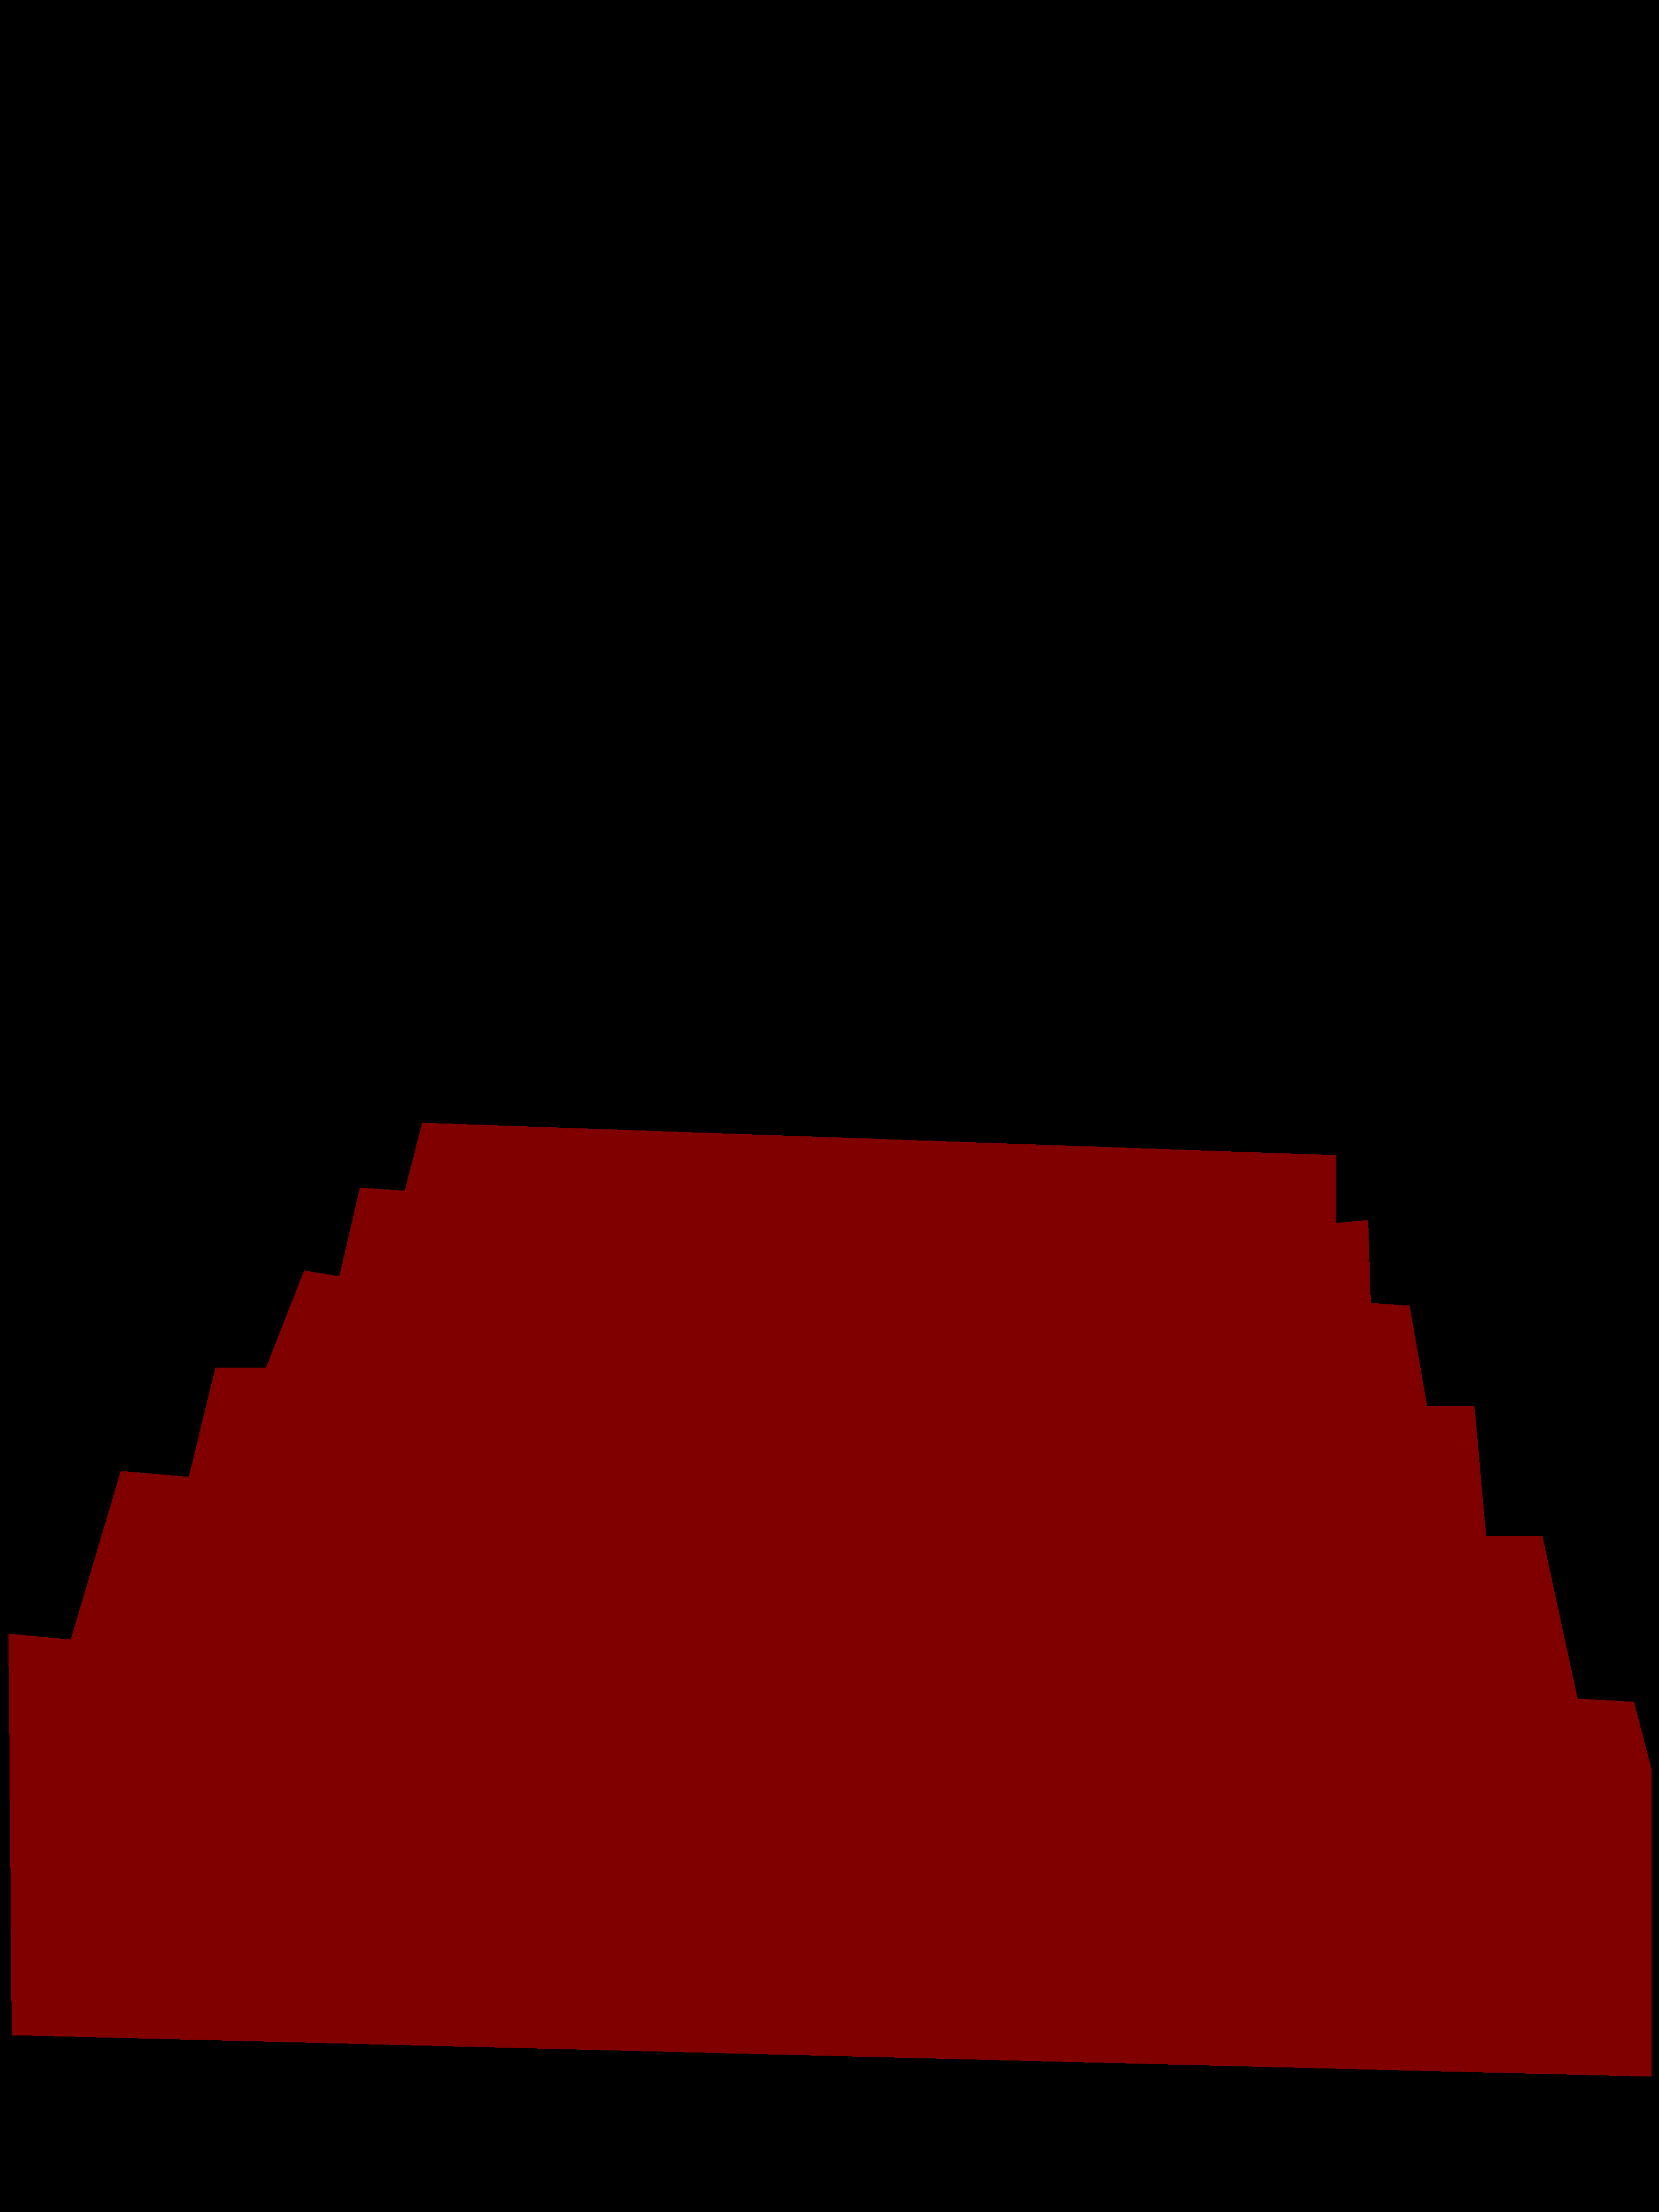stair: (9, 1122, 1650, 2076)
